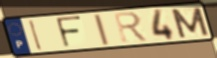4: (150, 7, 177, 41)
F: (54, 15, 84, 49)
I: (92, 13, 111, 46), (28, 19, 44, 52)
M: (169, 6, 211, 39)
R: (112, 11, 151, 44)
